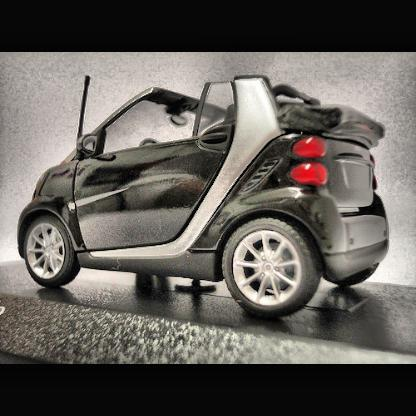smart fortwo Convertible 2012: (19, 78, 390, 319)
